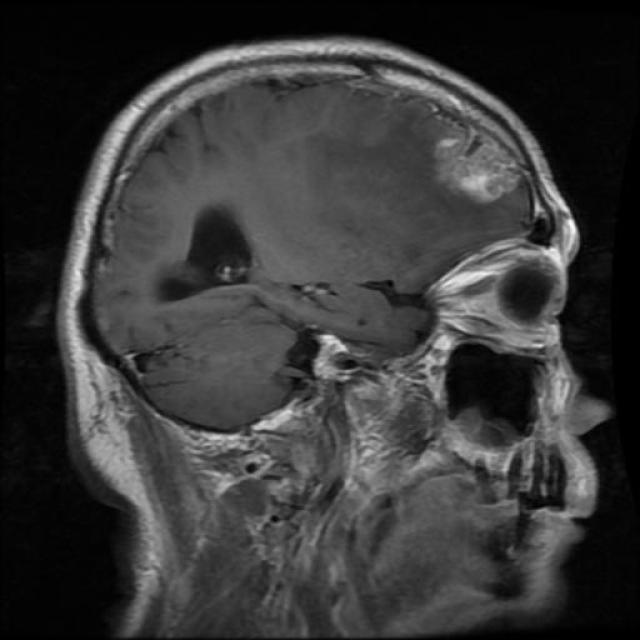meningioma: (435, 139, 514, 202)
